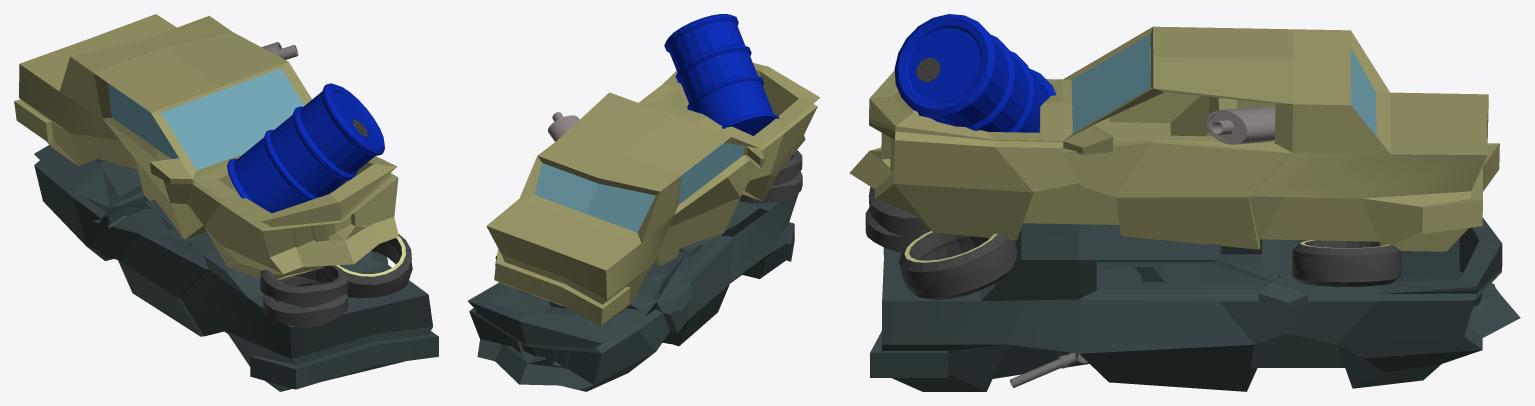
The model's file is Actor_2x1_junkpile2.fbx.
3 views of the same model, side by side, from view 1: azimuth 30°, elevation 25°; view 2: azimuth 150°, elevation 25°; view 3: azimuth 270°, elevation 25° (orthographic). The views are drawn at different scales.
Visible parts, largest first — view 1: pCylinder56; view 2: pCylinder56; view 3: pCylinder56.
Part boxes in pixels (left/top/right/bottom): pCylinder56: left=14, top=14, right=438, bottom=391; pCylinder56: left=468, top=14, right=820, bottom=391; pCylinder56: left=849, top=14, right=1520, bottom=391.
Size of the model in its own units: 5.39 by 6.91 by 12.4.
